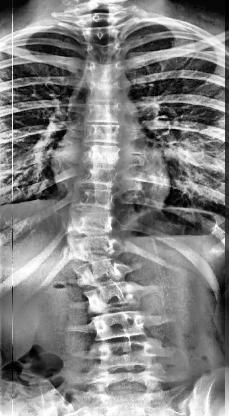Vertebrae: (98, 341, 156, 370), (81, 284, 141, 312), (72, 257, 126, 287), (92, 312, 148, 340), (64, 206, 116, 236), (63, 233, 119, 260), (70, 184, 116, 212), (82, 78, 128, 104), (74, 164, 119, 190), (83, 100, 125, 124), (80, 144, 122, 168), (82, 123, 124, 145), (85, 40, 125, 62), (80, 24, 122, 44), (82, 62, 126, 80), (76, 12, 120, 29)
